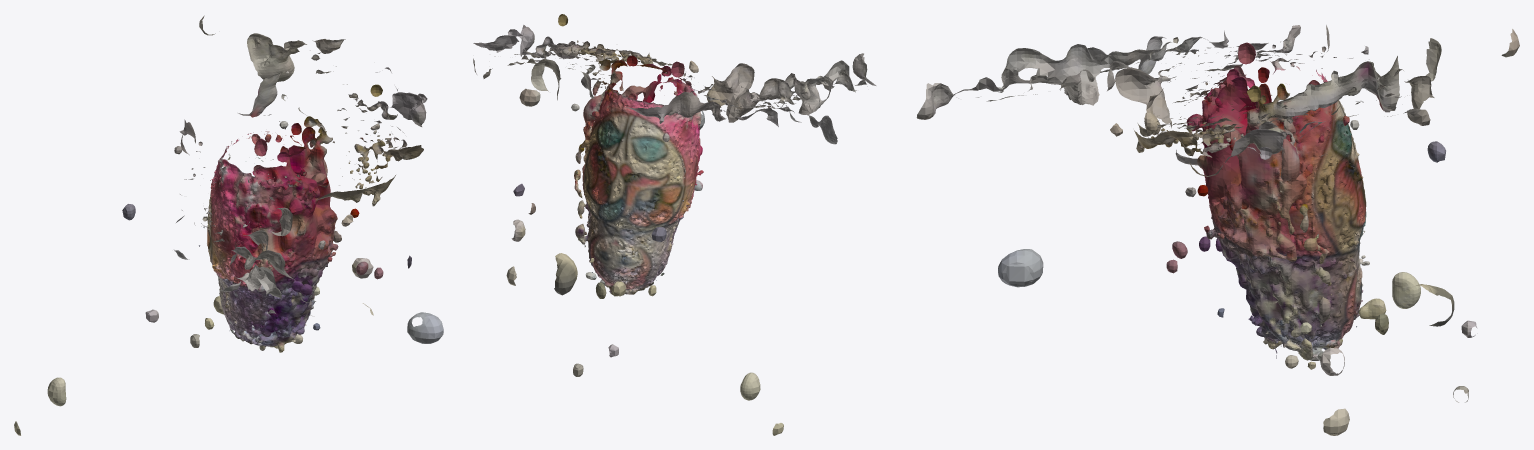
Rendered from Vase-Haitham-fps5.glb.
3 views of the same model, side by side, from view 1: azimuth 30°, elevation 25°; view 2: azimuth 150°, elevation 25°; view 3: azimuth 270°, elevation 25° (orthographic). The views are drawn at different scales.
Parts seen in each view (by area): view 1: Vase-Haitham-fps5.ply; view 2: Vase-Haitham-fps5.ply; view 3: Vase-Haitham-fps5.ply.
Part boxes in pixels (box(x1,y1,x2,y2)): Vase-Haitham-fps5.ply: box(14, 15, 443, 435); Vase-Haitham-fps5.ply: box(473, 14, 876, 435); Vase-Haitham-fps5.ply: box(916, 25, 1519, 435).
Size of the model in its own units: 5.93 by 5.42 by 6.98.
